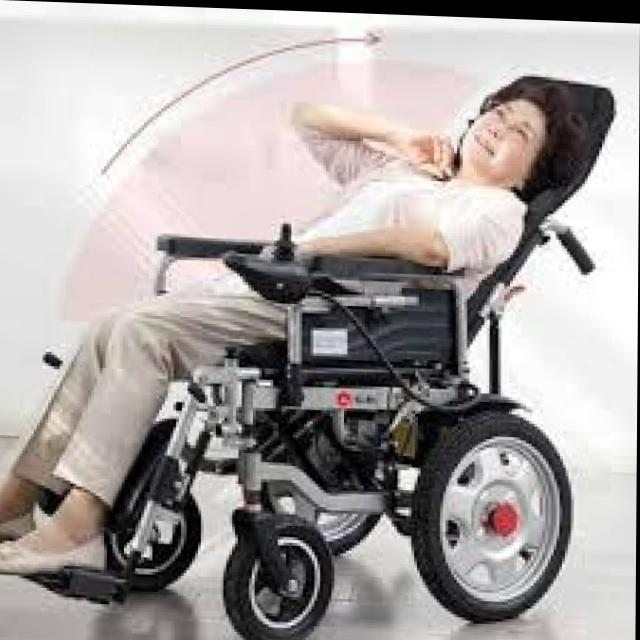wheelchair: (7, 53, 585, 640)
